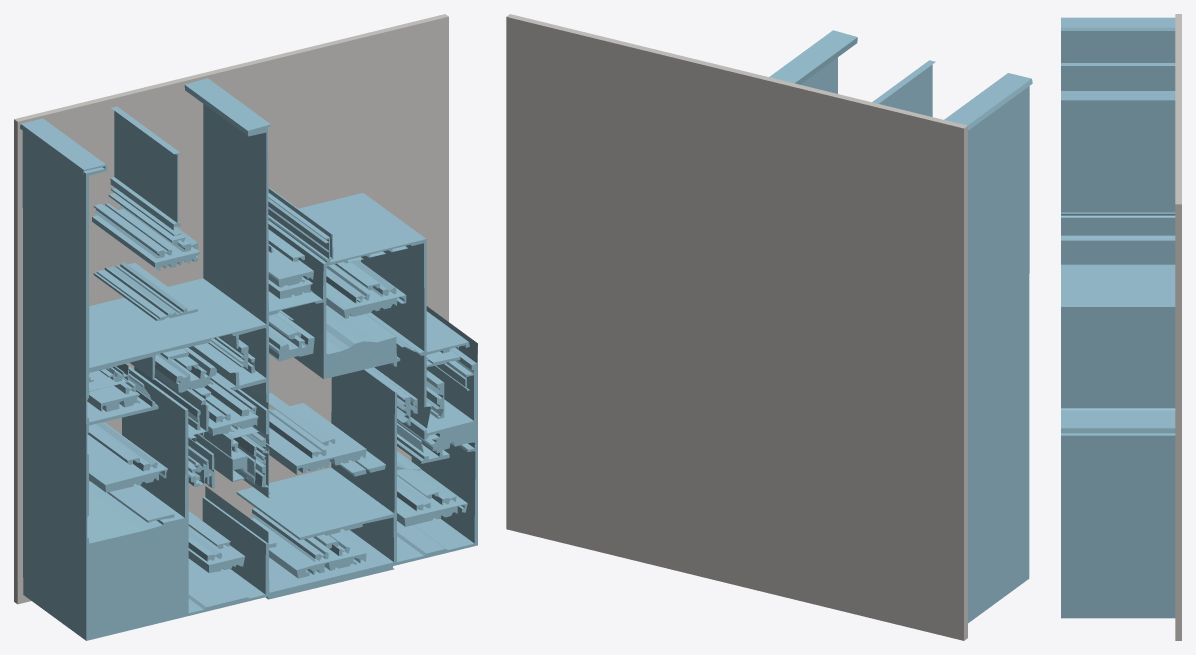
The picture shows the model from 3 angles, left to right: view 1: azimuth 30°, elevation 25°; view 2: azimuth 150°, elevation 25°; view 3: azimuth 270°, elevation 25°; orthographic projection. The views are drawn at different scales.
Parts seen in each view (by area): view 1: world; view 2: world; view 3: world.
Boxes of the visible parts, <box> form: world: <box>14,14,477,640</box>; world: <box>506,14,1032,640</box>; world: <box>1061,14,1181,640</box>.
Bounding box in the file's own units: 10.23 × 10.94 × 2.75.
